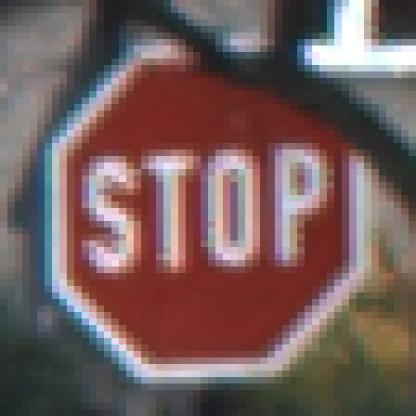stop: (38, 30, 385, 389)
